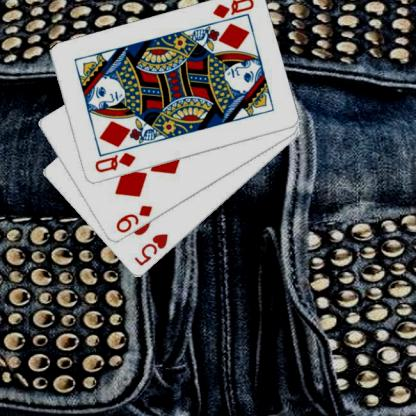5H: (131, 231, 170, 268)
9D: (112, 202, 154, 235)
QD: (91, 150, 137, 174), (209, 0, 256, 20)
